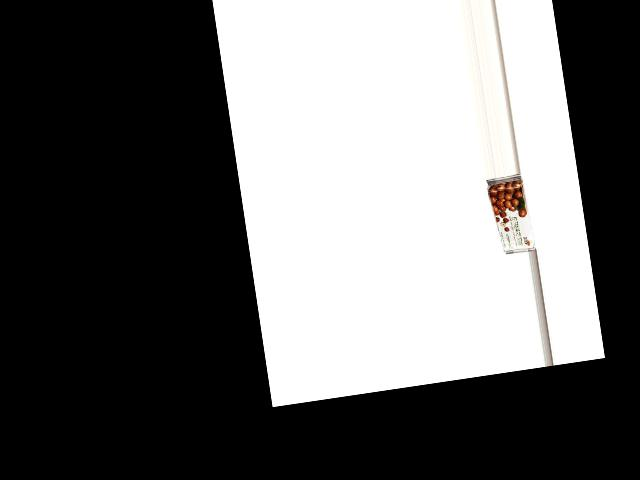chocolate: (485, 174, 533, 256)
